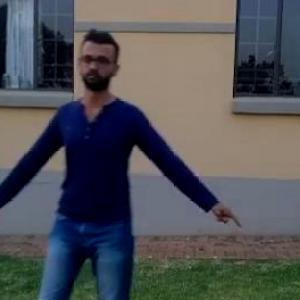land: (1, 54, 186, 299)
